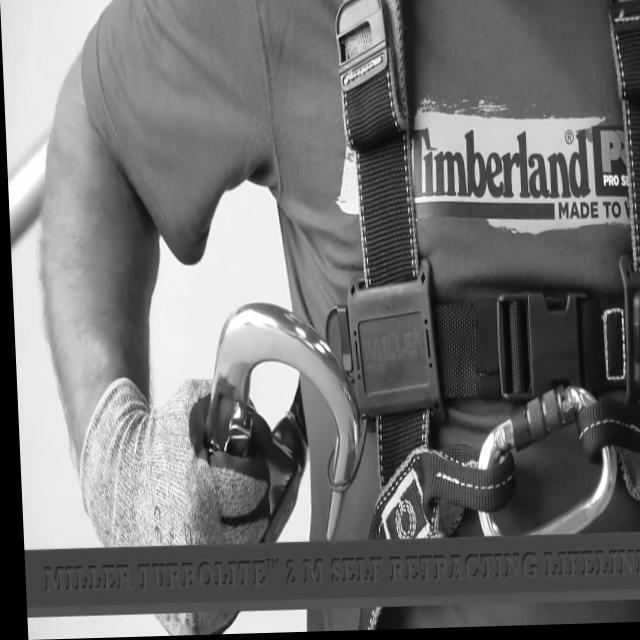belt: (272, 0, 640, 548)
